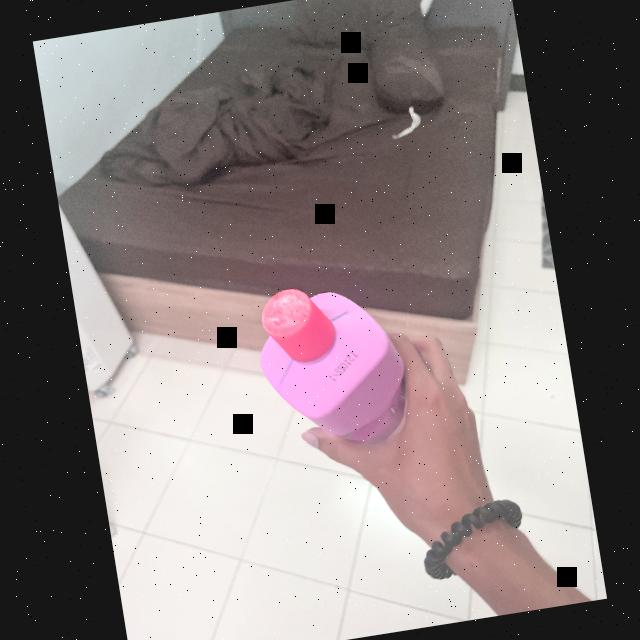chemical_plastic_bottle: (246, 266, 410, 462)
